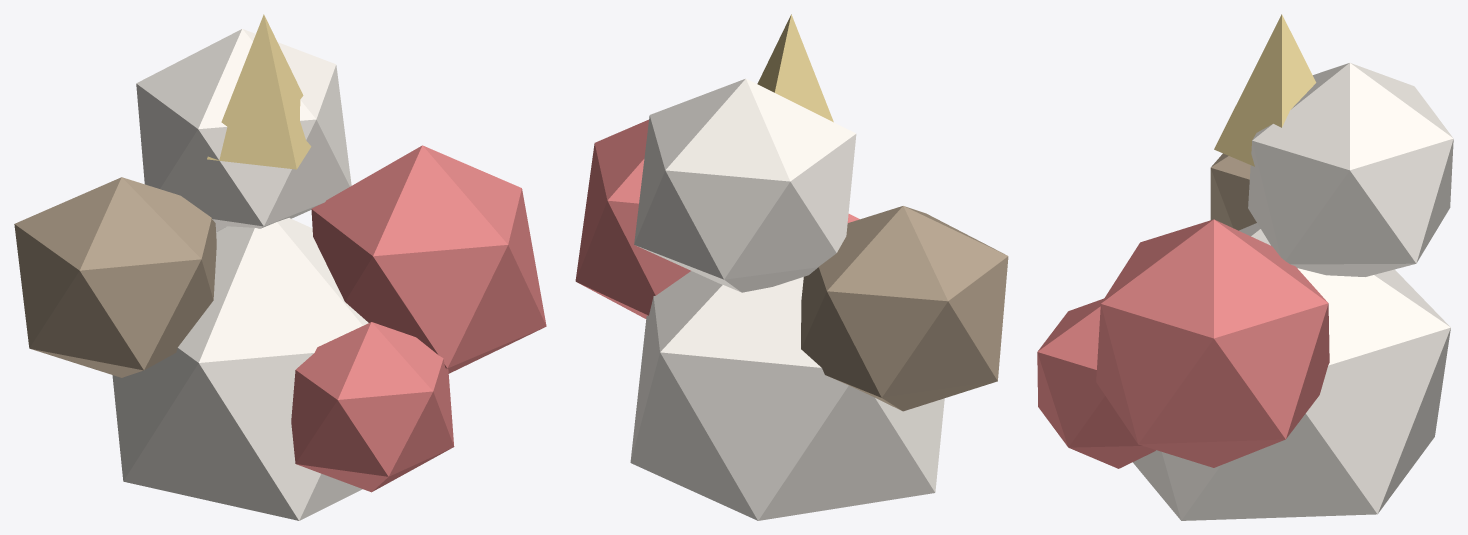
File: boom-1.glb
3 renders of one model, left to right at view 1: azimuth 30°, elevation 25°; view 2: azimuth 150°, elevation 25°; view 3: azimuth 270°, elevation 25°, orthographic. The views are drawn at different scales.
Visible parts, largest first — view 1: boom-1; view 2: boom-1; view 3: boom-1.
Part boxes in pixels (x1,y1,x2,y2): boom-1: (14, 14, 546, 520); boom-1: (575, 14, 1008, 520); boom-1: (1037, 14, 1453, 520).
Bounding box in the file's own units: 0.7761 × 0.77 × 0.6125.
